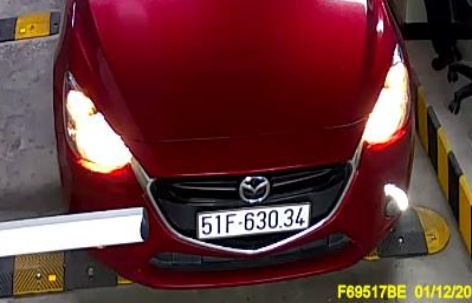plate: (195, 206, 310, 236)
